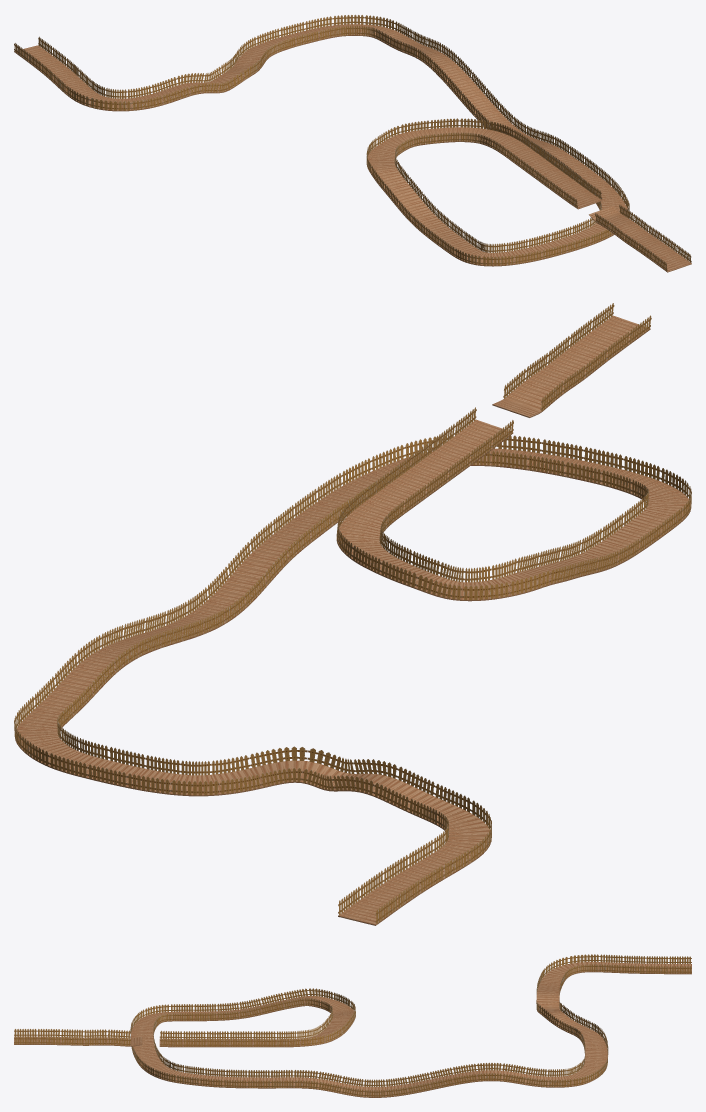
File: TRACK15 (1).fbx
3 renders of one model, top to bottom at view 1: azimuth 30°, elevation 25°; view 2: azimuth 150°, elevation 25°; view 3: azimuth 270°, elevation 25°, orthographic. The views are drawn at different scales.
Visible parts, largest first — view 1: Cube.040, Cube.041, Cube.043, Cube.042; view 2: Cube.040, Cube.041, Cube.043, Cube.042; view 3: Cube.040, Cube.041, Cube.042, Cube.043.
Part boxes in pixels (x1,y1,x2,y2): Cube.040: (14,14,629,265); Cube.041: (14,24,627,266); Cube.043: (589,206,691,272); Cube.042: (595,205,691,271); Cube.040: (14,407,691,923); Cube.041: (14,419,691,925); Cube.043: (492,315,650,417); Cube.042: (503,303,651,411); Cube.040: (130,954,691,1097); Cube.041: (131,962,691,1097); Cube.042: (14,1029,131,1045); Cube.043: (14,1036,142,1046).
Bounding box in the file's own units: 6593 × 1022 × 15004.
Materials: 2 (2 with a texture image).
